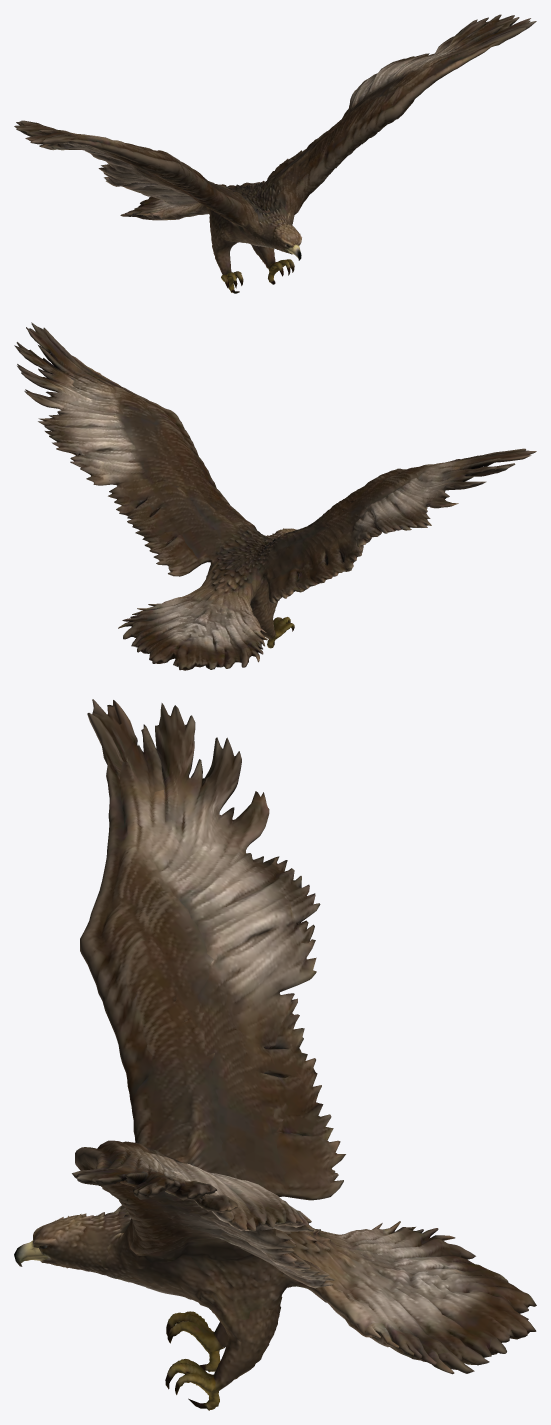
File: MZ4250 - Eagle Updated.glb
3 renders of one model, top to bottom at view 1: azimuth 30°, elevation 25°; view 2: azimuth 150°, elevation 25°; view 3: azimuth 270°, elevation 25°, orthographic. The views are drawn at different scales.
Visible parts, largest first — view 1: Eagle updated.001; view 2: Eagle updated.001; view 3: Eagle updated.001.
Boxes of the visible parts, bbox=[...] form: Eagle updated.001: bbox=[14, 14, 536, 293]; Eagle updated.001: bbox=[14, 322, 536, 670]; Eagle updated.001: bbox=[14, 699, 536, 1410].
Bounding box in the file's own units: 60.14 × 26.38 × 27.55.
Materials: 1 (1 with a texture image).
